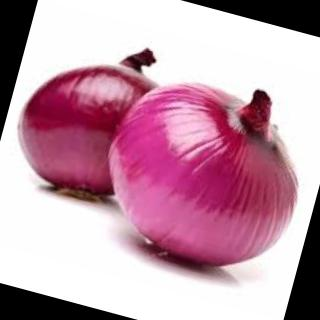Bawang Merah: (84, 54, 320, 290)
